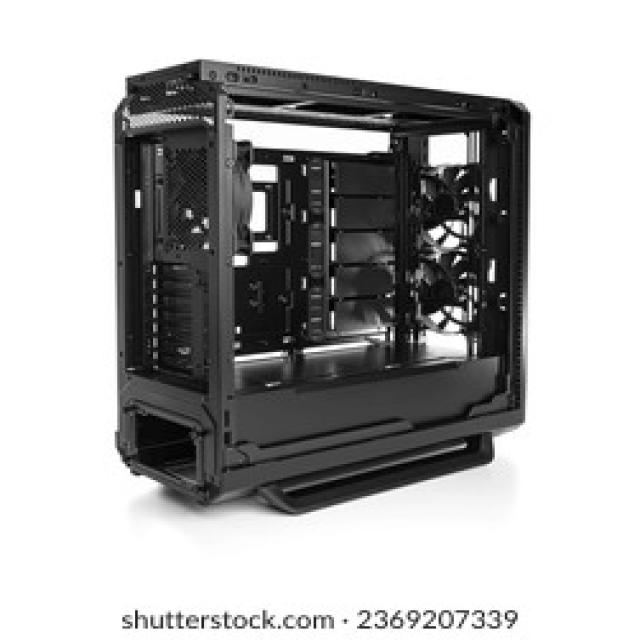electronics: (112, 64, 525, 510)
